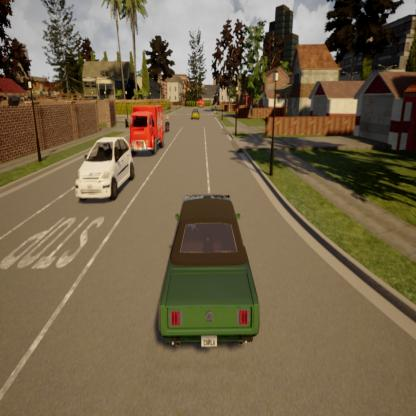Cars: (160, 193, 259, 348), (75, 136, 135, 200), (128, 102, 165, 153), (164, 108, 171, 134), (191, 108, 201, 119), (198, 96, 206, 107)
